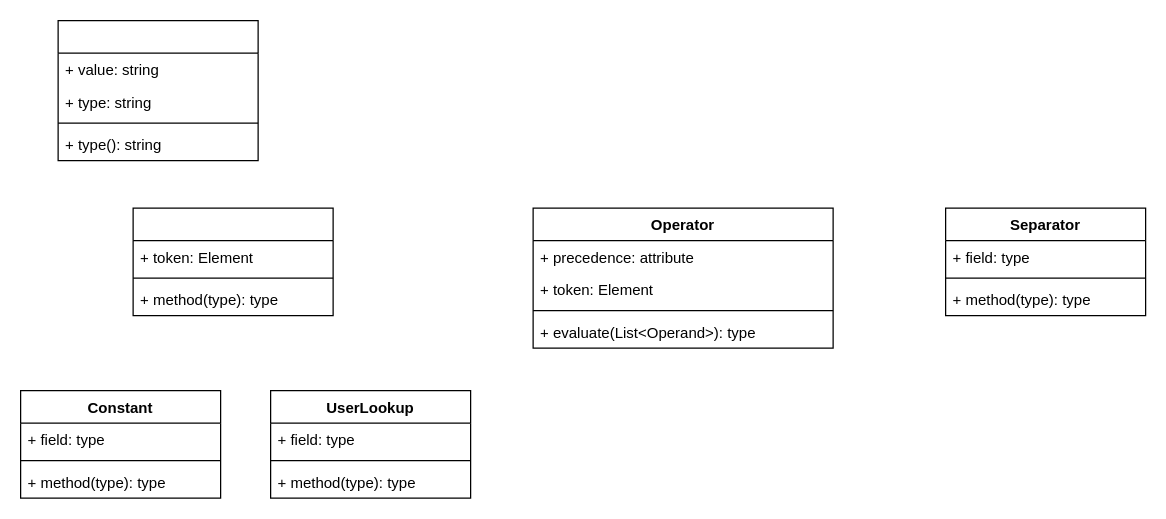
This 1166x519 diagram has some shape labels left out. The shapes that lost their labels are listed below. From the top down, each one's box as (x1, y1, x2, y2) in pixels, then its label:
(57, 19, 258, 161): Element
(132, 207, 333, 316): Operand
